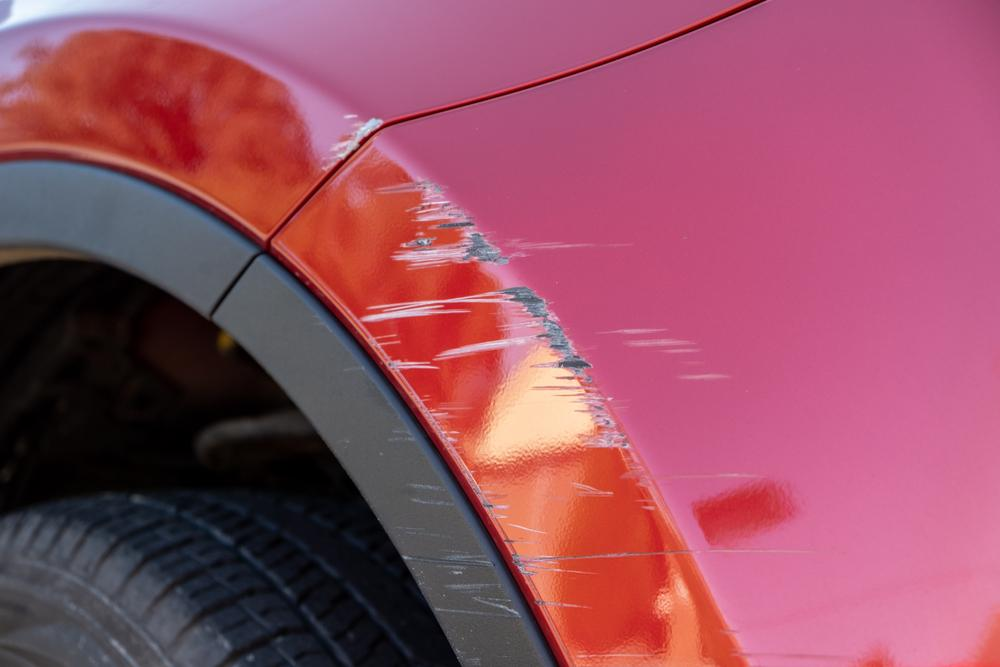scratch: (354, 162, 824, 667), (381, 413, 520, 647), (317, 112, 391, 170)
